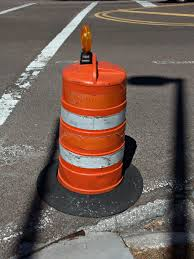barrel: (56, 60, 127, 192)
